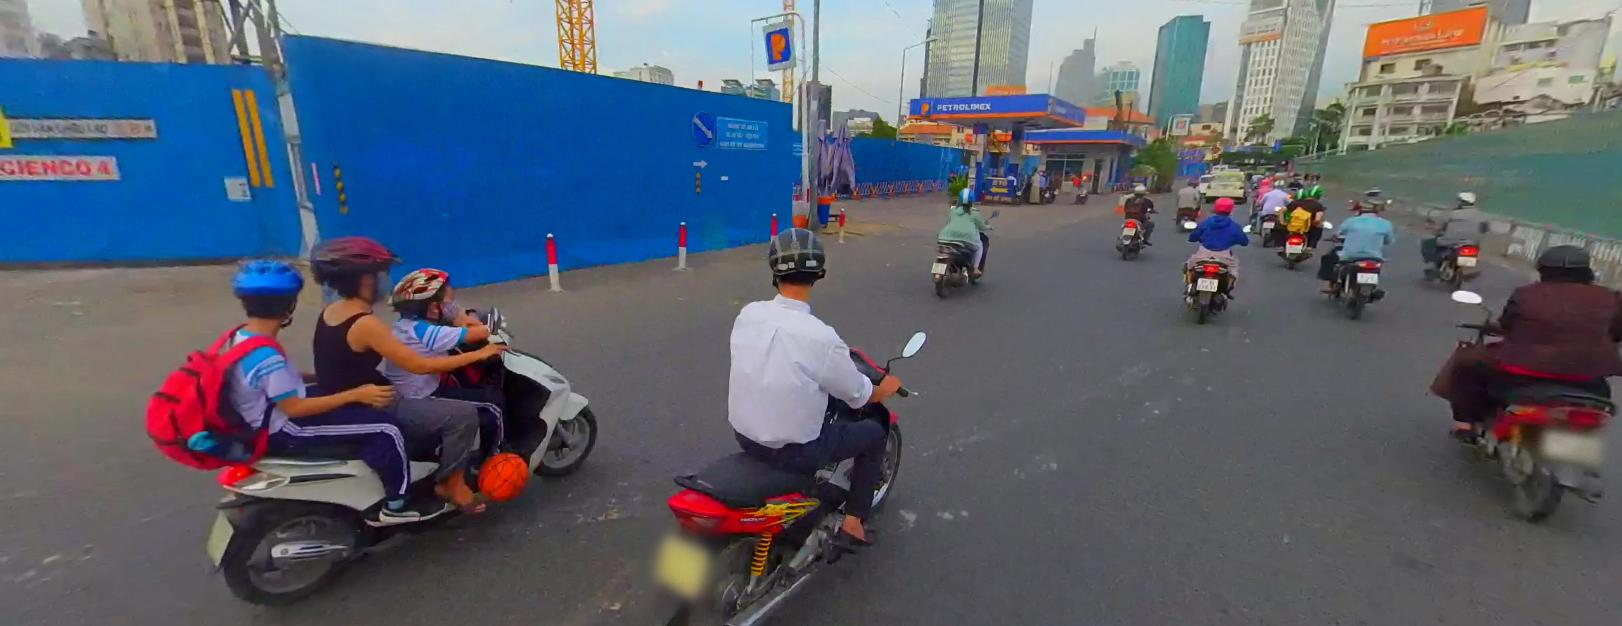Hieu lenh: (692, 110, 715, 146)
